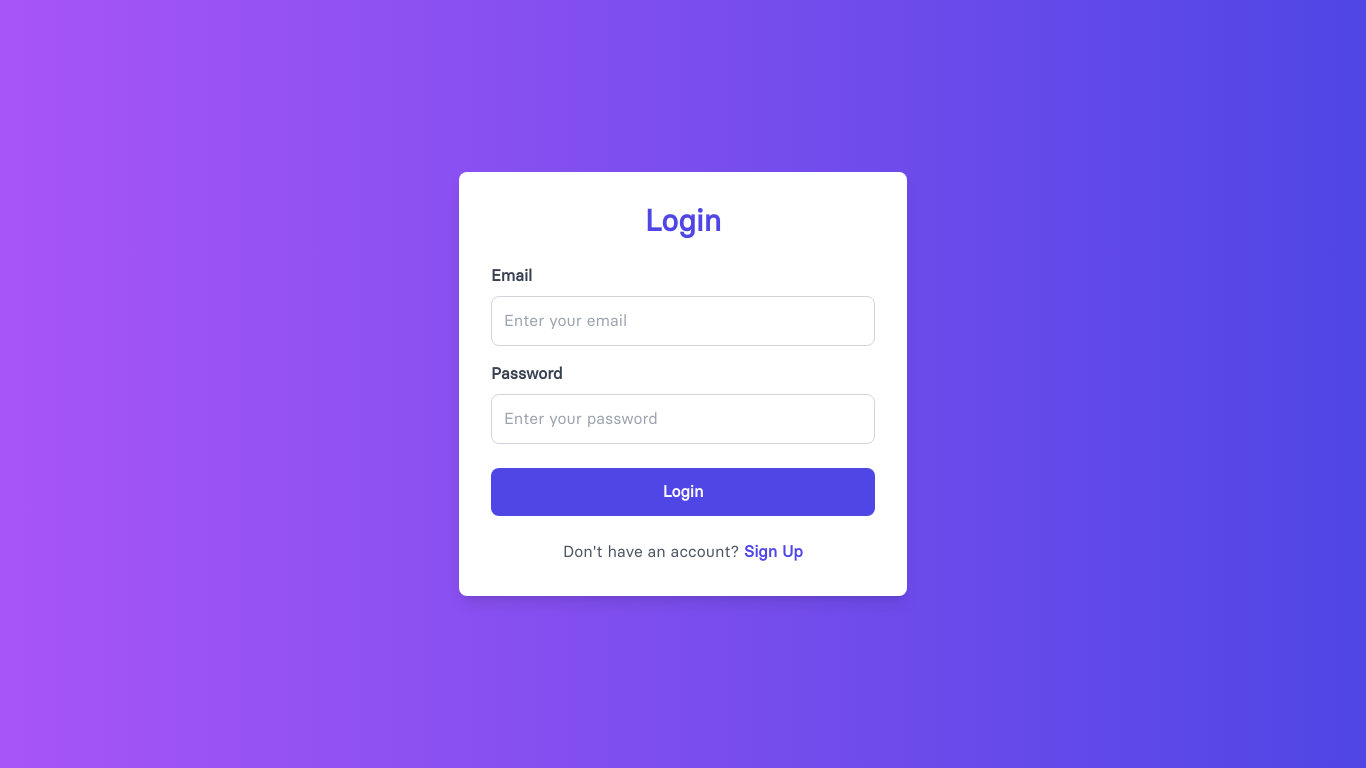
Scenario: Login Page › should display an error message on failed login
The width and height of the screenshot is (1366, 768).
In the field with id "email": {"x": 683, "y": 321} [491,296,875,346], type "wrongemail@example.com"
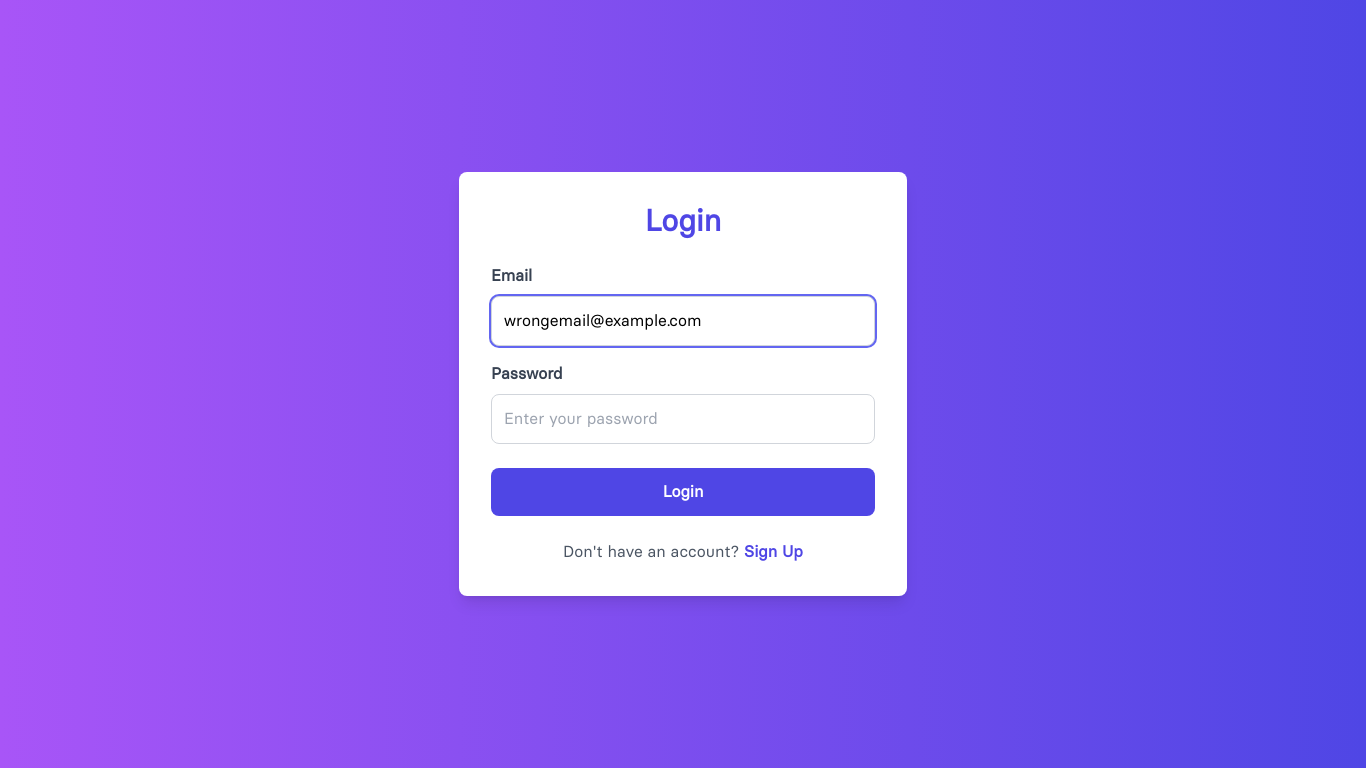
In the password field labelled "Password": {"x": 683, "y": 419} [491,394,875,444], type "wrongpassword"
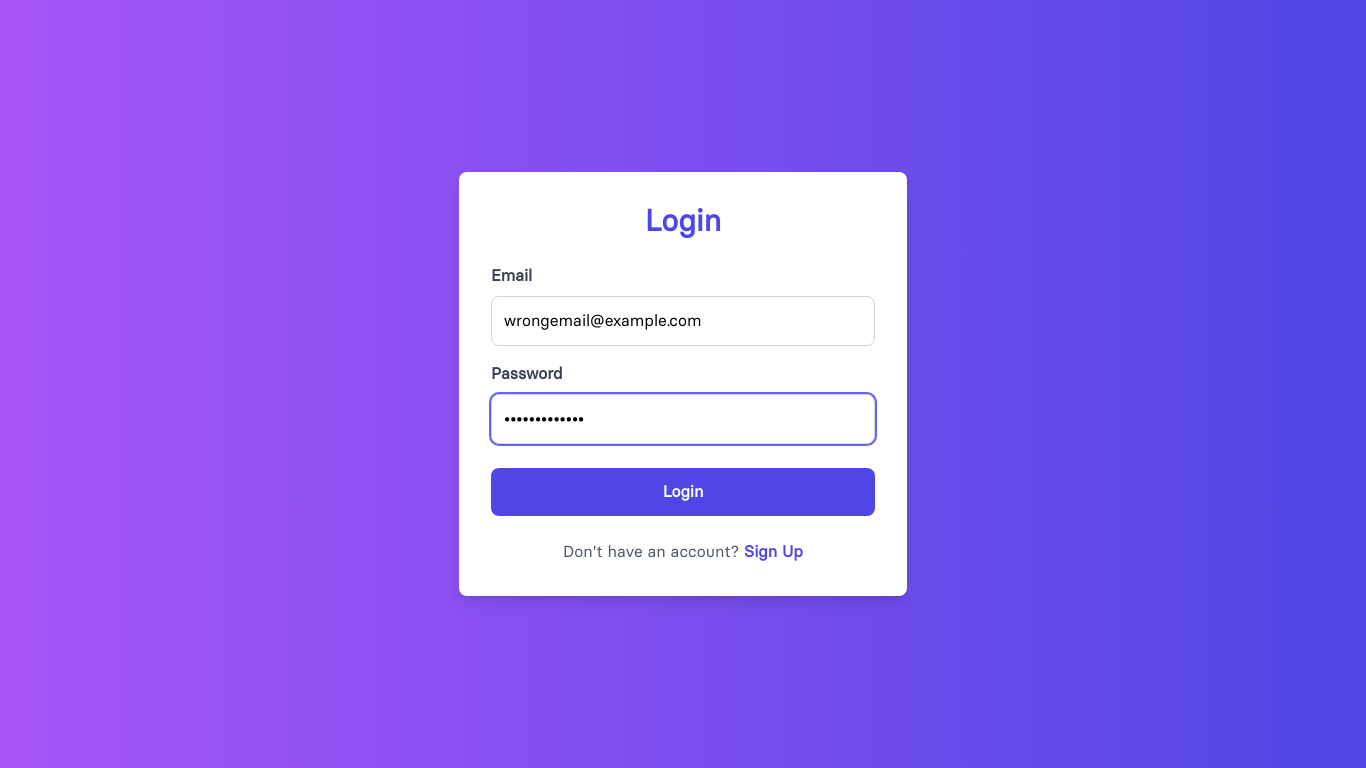
Click the button with id "login-button": {"x": 683, "y": 492} [491,468,875,516]
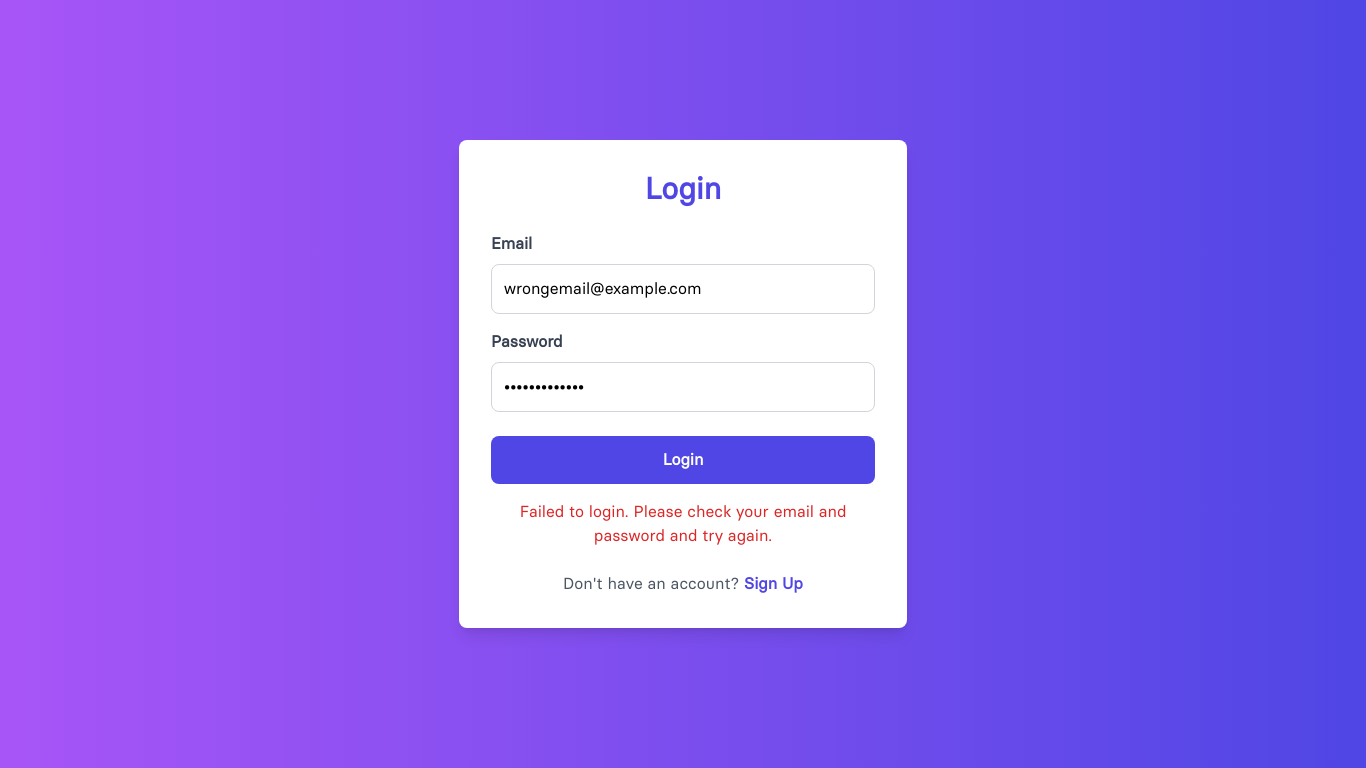
Expected: the text "Failed to login. Please check your email and password and try again." is shown, [491,500,875,548]
